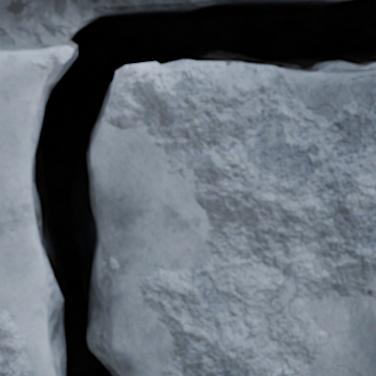broken_brick: (92, 61, 375, 375), (0, 48, 71, 375), (0, 43, 53, 49)
crack: (0, 0, 375, 375)
